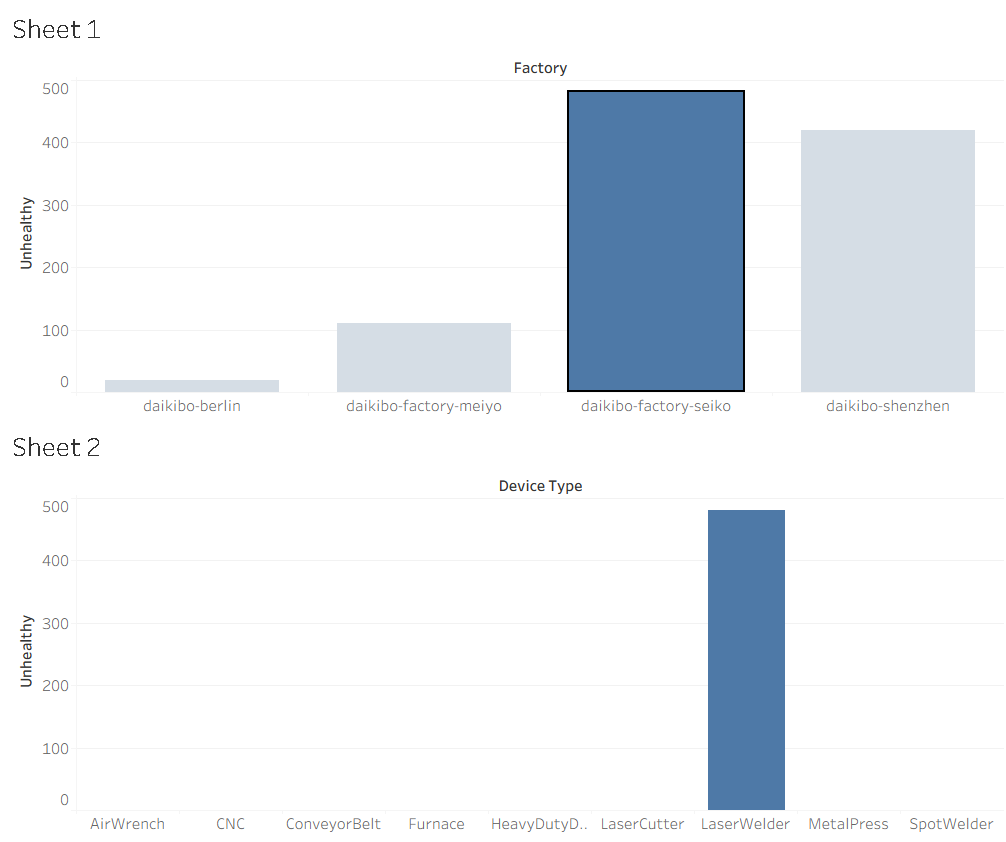

The page's visual inventory and layout, read from the dashboard file:
{"tool":"tableau","page":{"name":"Dashboard 1","canvas":[1000,1000],"units":"permille","ordinal":0},"visuals":[{"type":"worksheet","title":"Sheet 1","mark":"Automatic","rows":["Calculation_0140227785867264"],"cols":["factory"],"box":[7.8,9.4,984.3,490.6]},{"type":"worksheet","title":"Sheet 2","mark":"Automatic","rows":["Calculation_0140227785867264"],"cols":["deviceType"],"box":[7.8,500,984.3,490.6]}]}

Visuals, with their boxes on the dashboard's canvas, which has no fixed pixel size, in thousandths of its width and height (x1, y1, x2, y2). These are canvas units, not pixel positions in the 1006x842 screenshot, which may show the page scaled, cropped or inside an application window:
"Sheet 1" worksheet: left=8, top=9, right=992, bottom=500
"Sheet 2" worksheet: left=8, top=500, right=992, bottom=991
